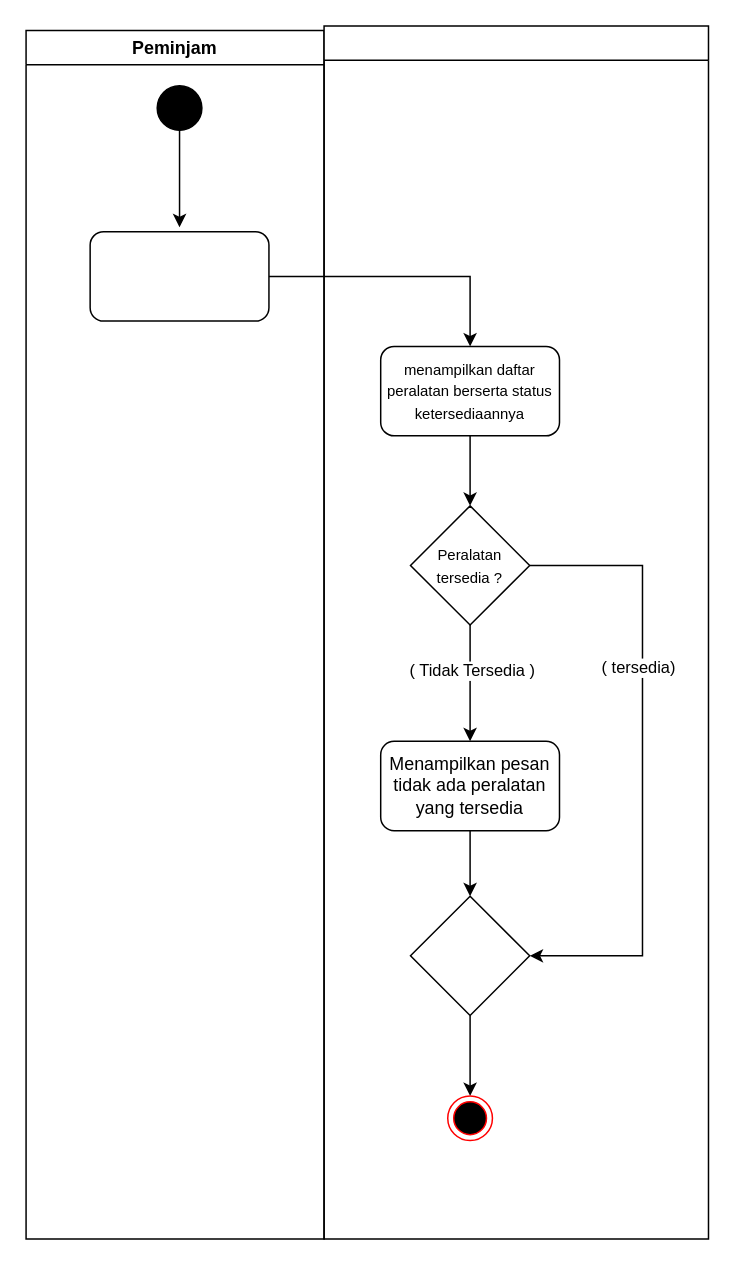
Some shapes in this 735 by 1265 pixel diagram are drawn without their labels. Each missing label, with the box of its shape:
Membuka fungsi lihat ketersediaan peralatan: (89, 230, 269, 321)
Sistem: (323, 25, 708, 1239)
